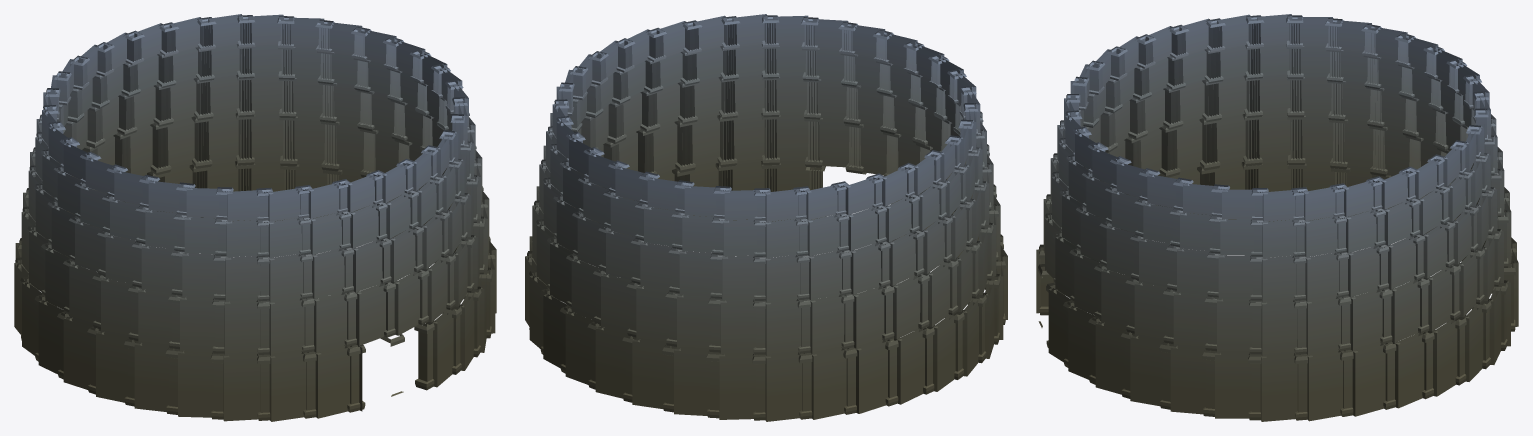
The model's file is WRLD_ARENAfbx 1.fbx.
3 views of the same model, side by side, from view 1: azimuth 30°, elevation 25°; view 2: azimuth 150°, elevation 25°; view 3: azimuth 270°, elevation 25° (orthographic).
Parts seen in each view (by area): view 1: Cube.025; view 2: Cube.025; view 3: Cube.025.
Part boxes in pixels (x1,y1,x2,y2): Cube.025: [14, 14, 496, 421]; Cube.025: [525, 14, 1007, 421]; Cube.025: [1036, 14, 1518, 421].
Size of the model in its own units: 2059 by 1016 by 2059.
